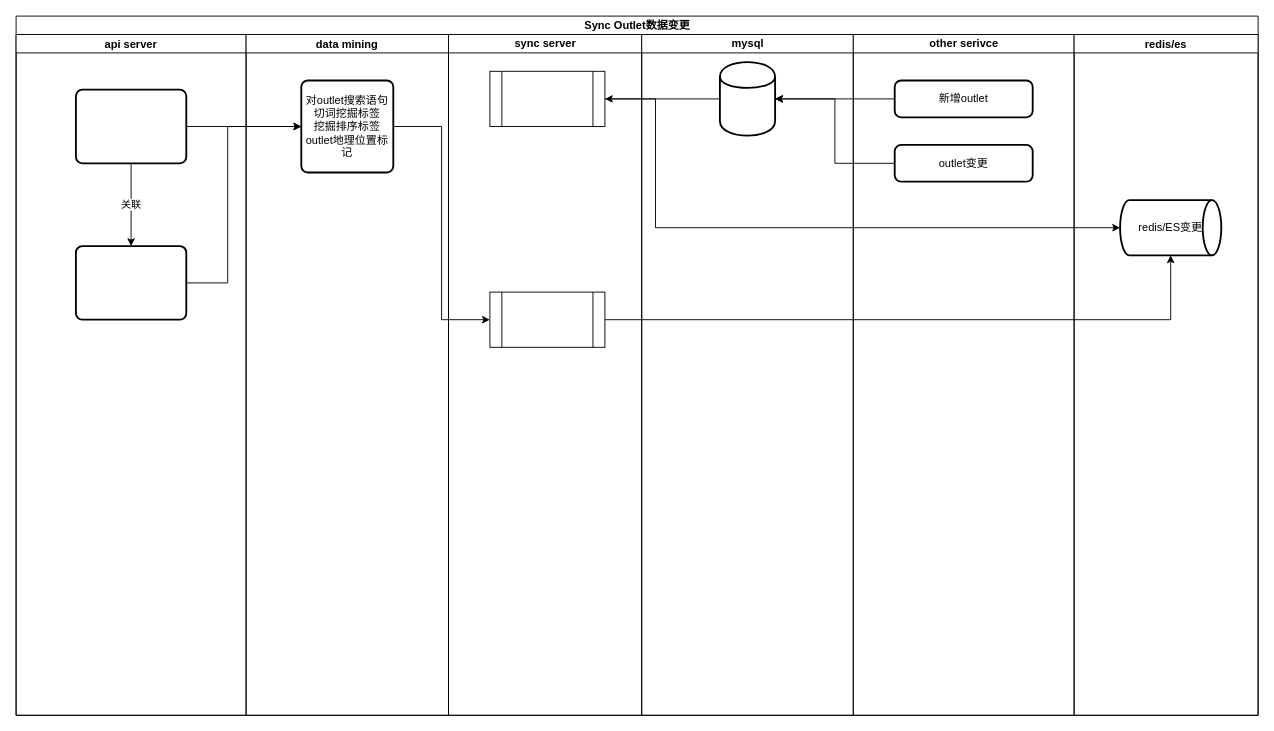
Image size: 1274x731. Some labels were removed from this diagram. Here are the shapes that lost their labels. From the top down, the centre of each, then its label:
At (x=547, y=98): "监听数据变更(binlog)".
At (x=747, y=98): "数据库".
At (x=131, y=126): "搜集用户展示日志".
At (x=131, y=282): "搜集用户点击日志".
At (x=547, y=319): "轮询检查数据挖掘结果".
